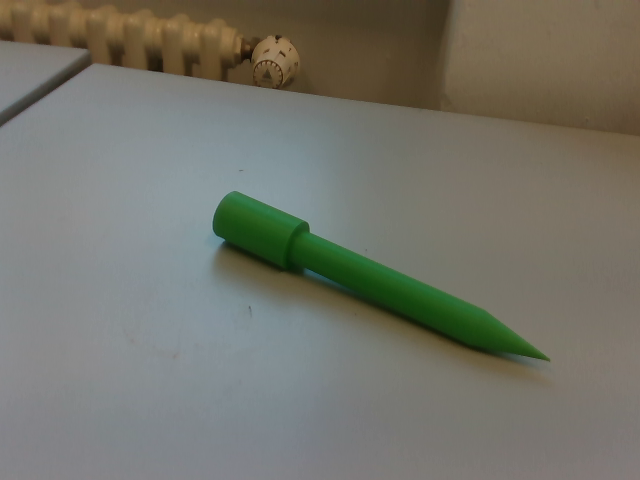Probe: (208, 186, 561, 367)
